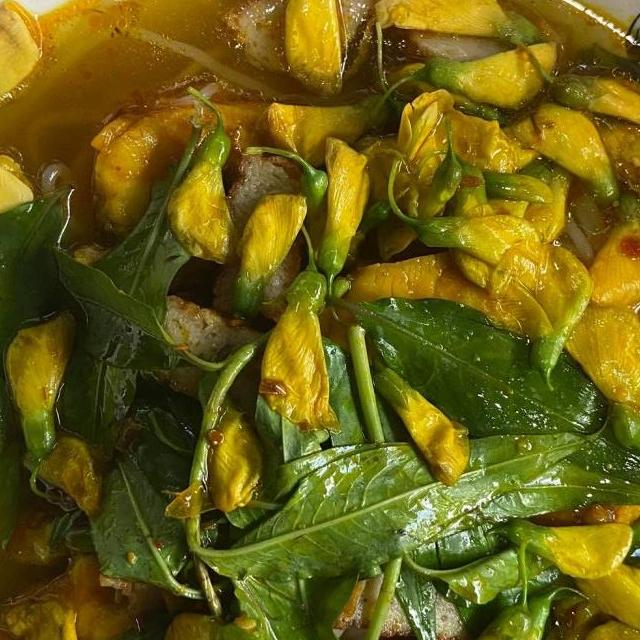rau ram: (179, 279, 640, 640), (31, 104, 241, 616), (0, 227, 37, 634), (0, 179, 80, 364)
